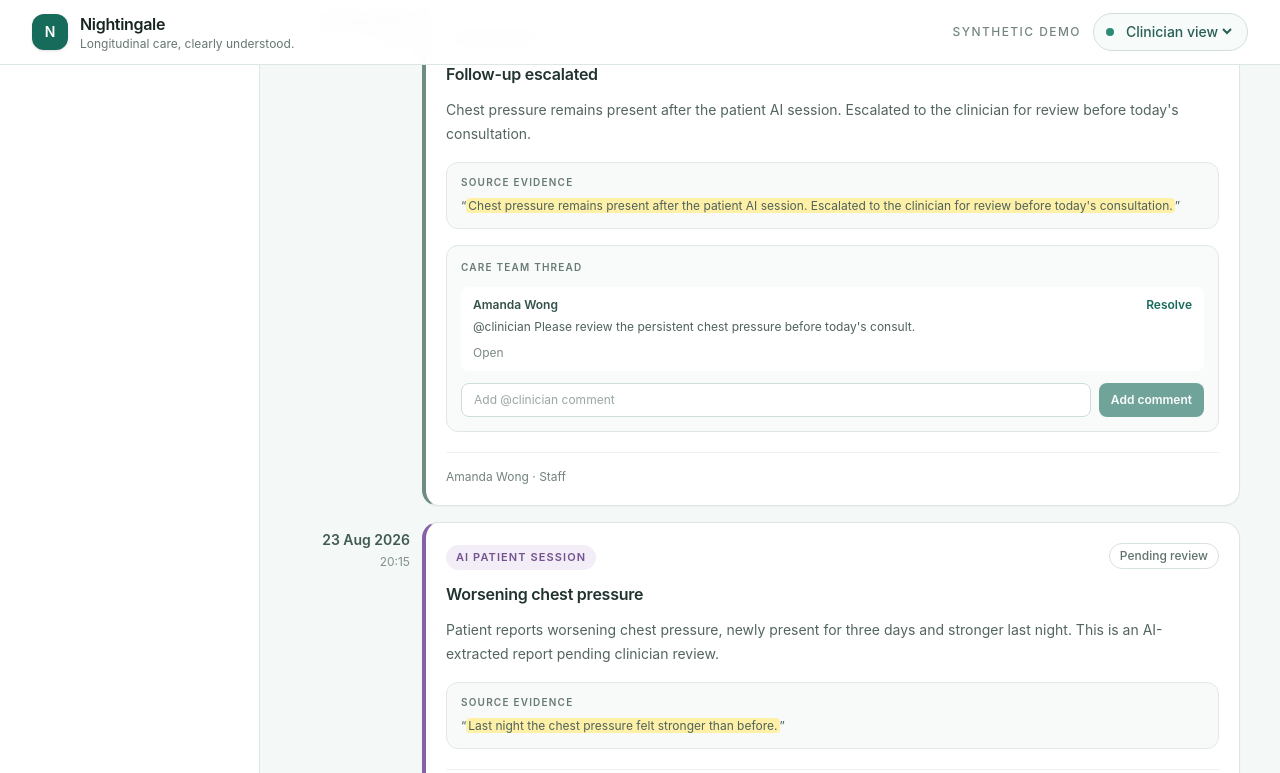
Scenario: Nightingale application shell › adds an @clinician comment to the staff note thread
(page scrolled)
Expected: the element "Follow-up escalated" is shown, 422,2 -> 1240,506
Expected: the text "Please review the persistent chest pressure" is shown, 473,319 -> 915,334
Type "@clinician Reviewed during today's consultation." into the field named "New comment" at (776, 400), box 461,383 -> 1091,417
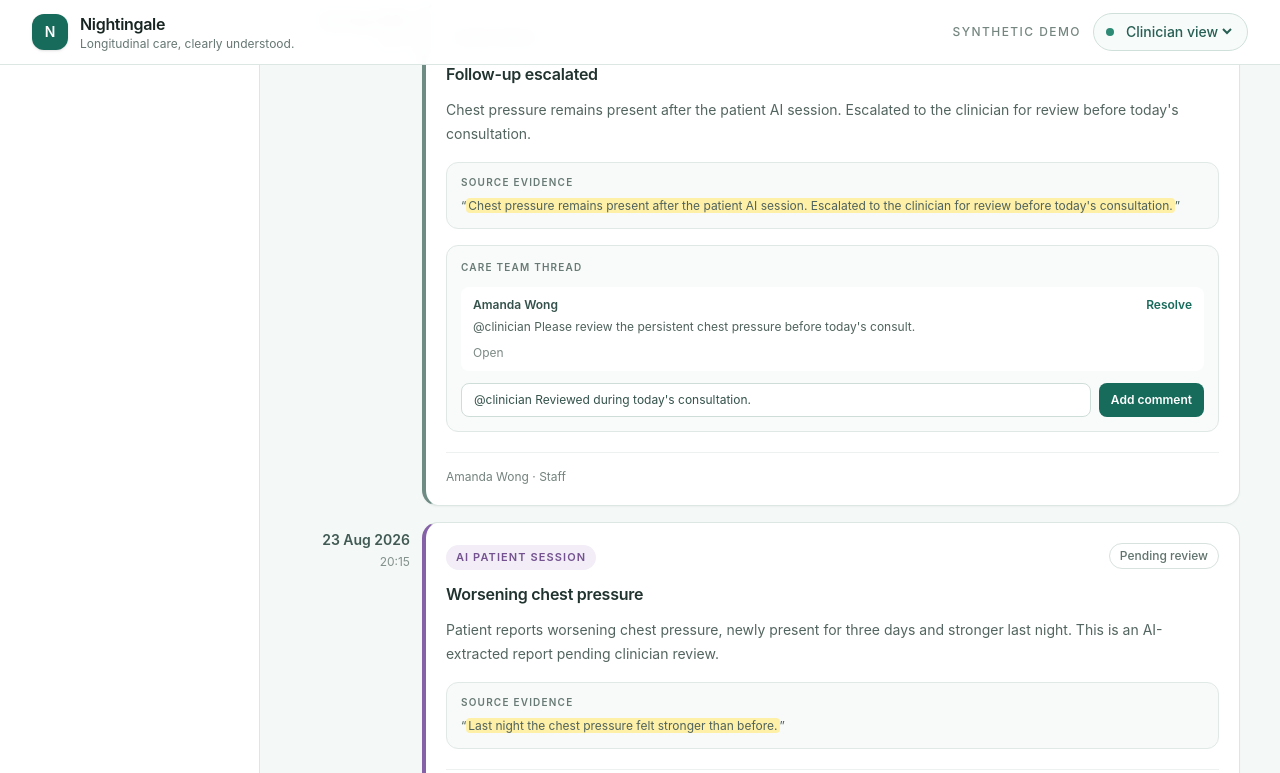
Click the button "Add comment" at (1151, 400), box 1099,383 -> 1204,417
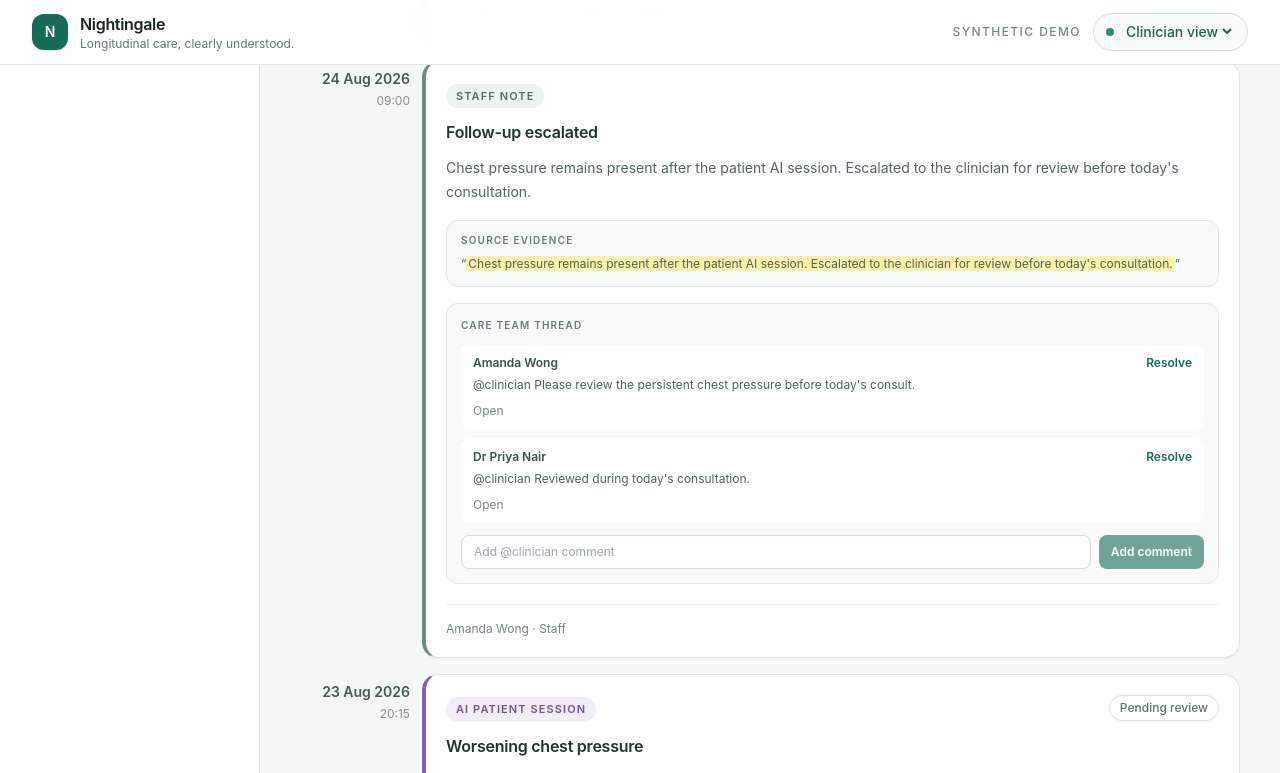
Expected: the text "@clinician Reviewed during today's consultation." is shown, 473,469 -> 750,489
